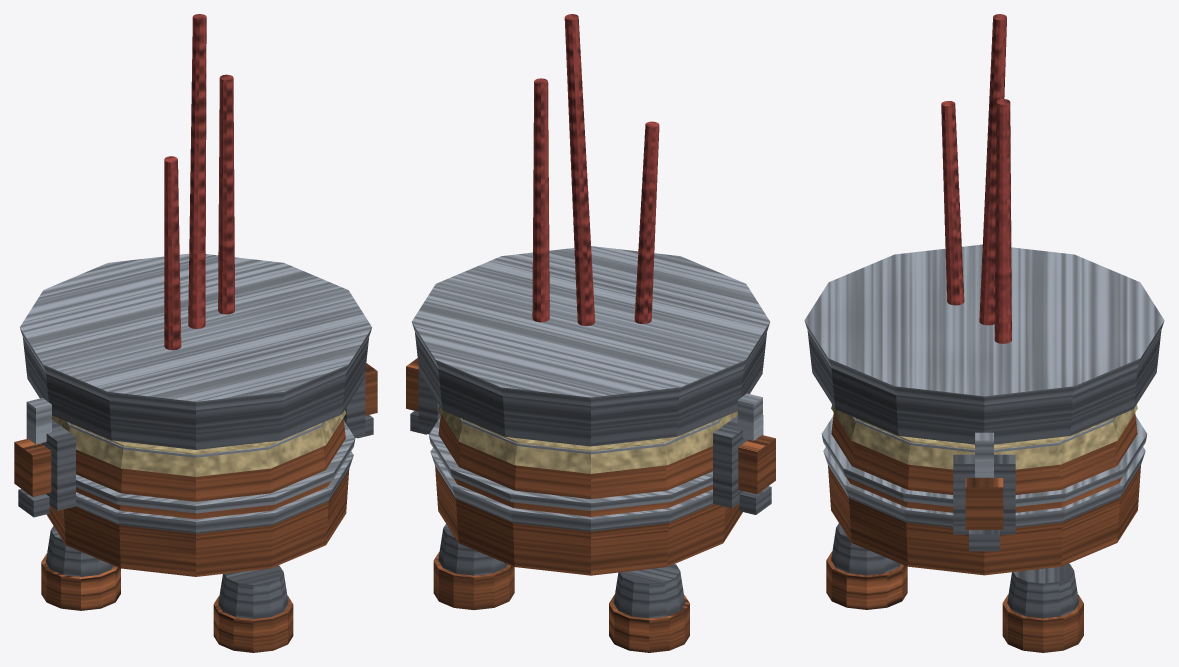
Rendered from incense_burner_grand.fbx.
The picture shows the model from 3 angles, left to right: view 1: azimuth 30°, elevation 25°; view 2: azimuth 150°, elevation 25°; view 3: azimuth 270°, elevation 25°; orthographic projection. The views are drawn at different scales.
Visible parts, largest first — view 1: incense_burner_grand; view 2: incense_burner_grand; view 3: incense_burner_grand.
Boxes of the visible parts, x1,y1,x2,y2 form: incense_burner_grand: [14, 14, 377, 652]; incense_burner_grand: [406, 14, 775, 652]; incense_burner_grand: [804, 14, 1164, 652].
Size of the model in its own units: 35.1 by 55.34 by 31.05.
